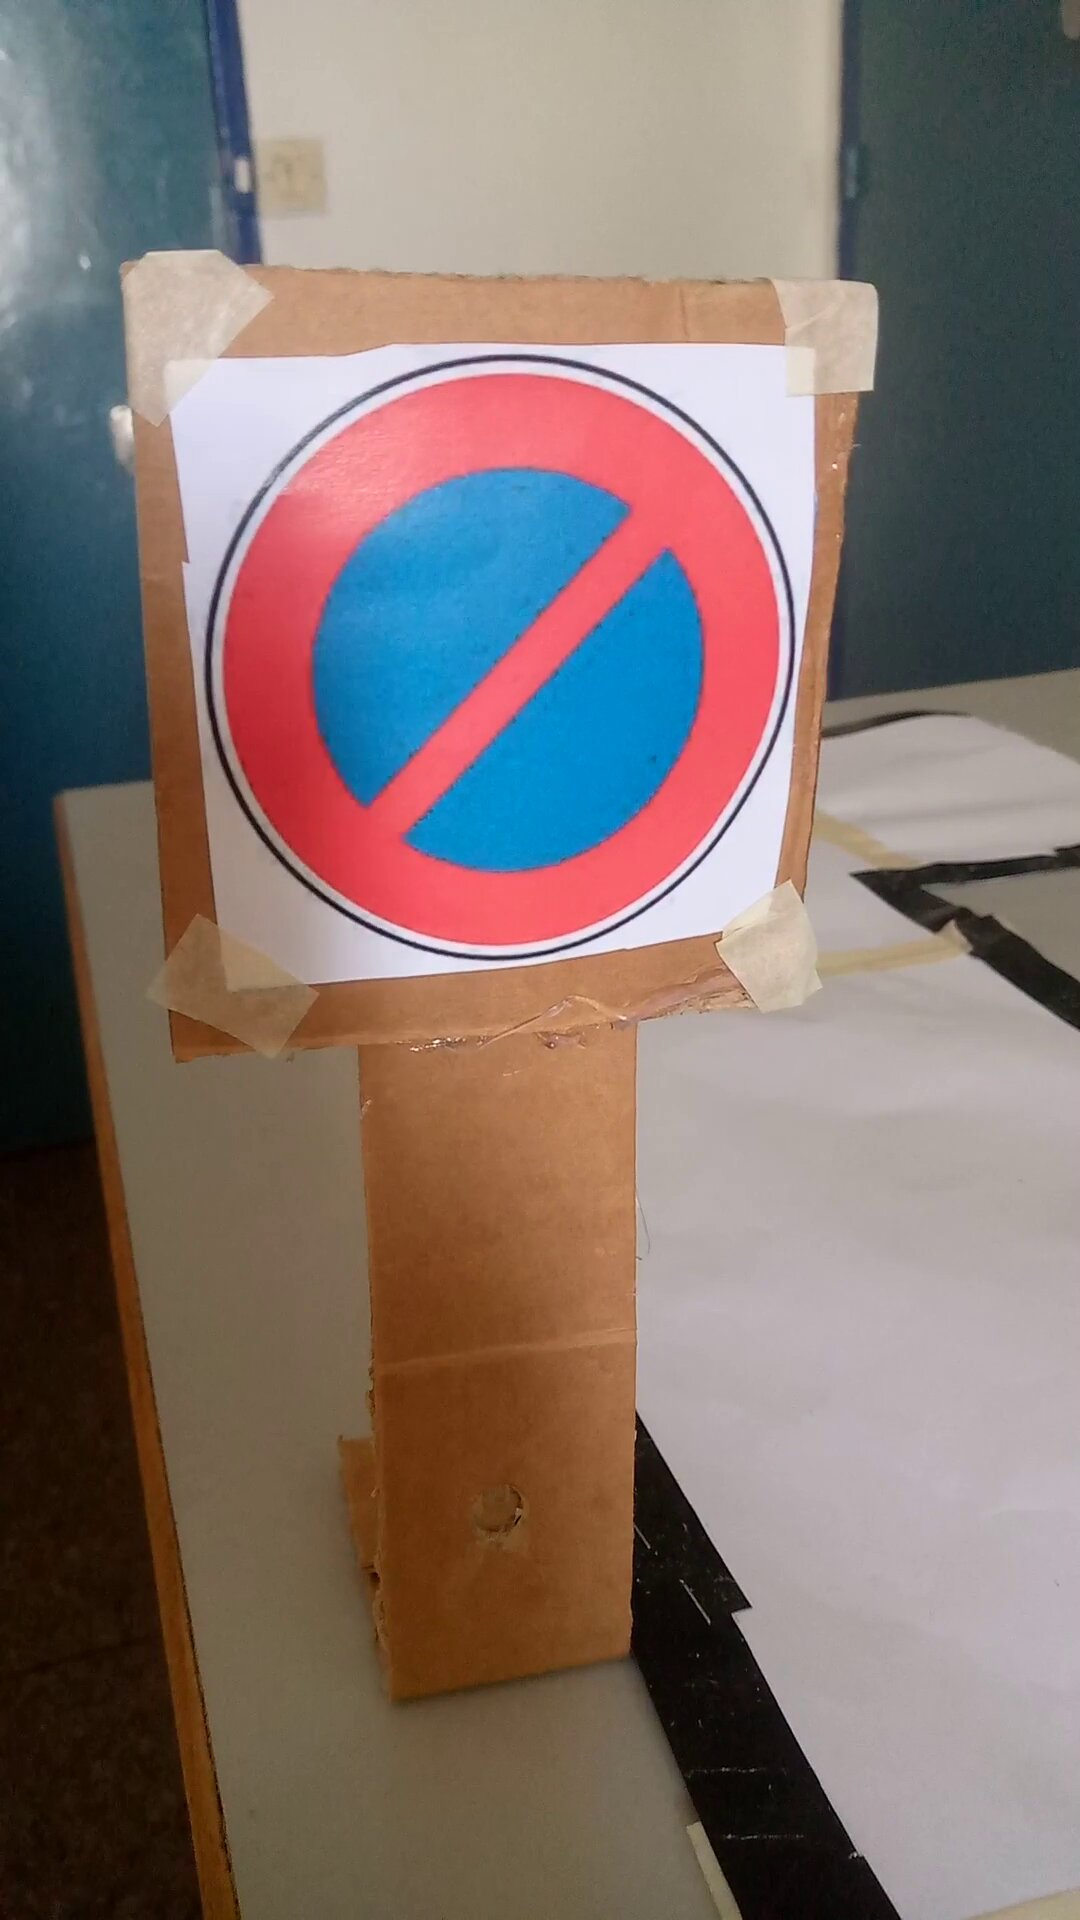panel110: (167, 349, 793, 975)
